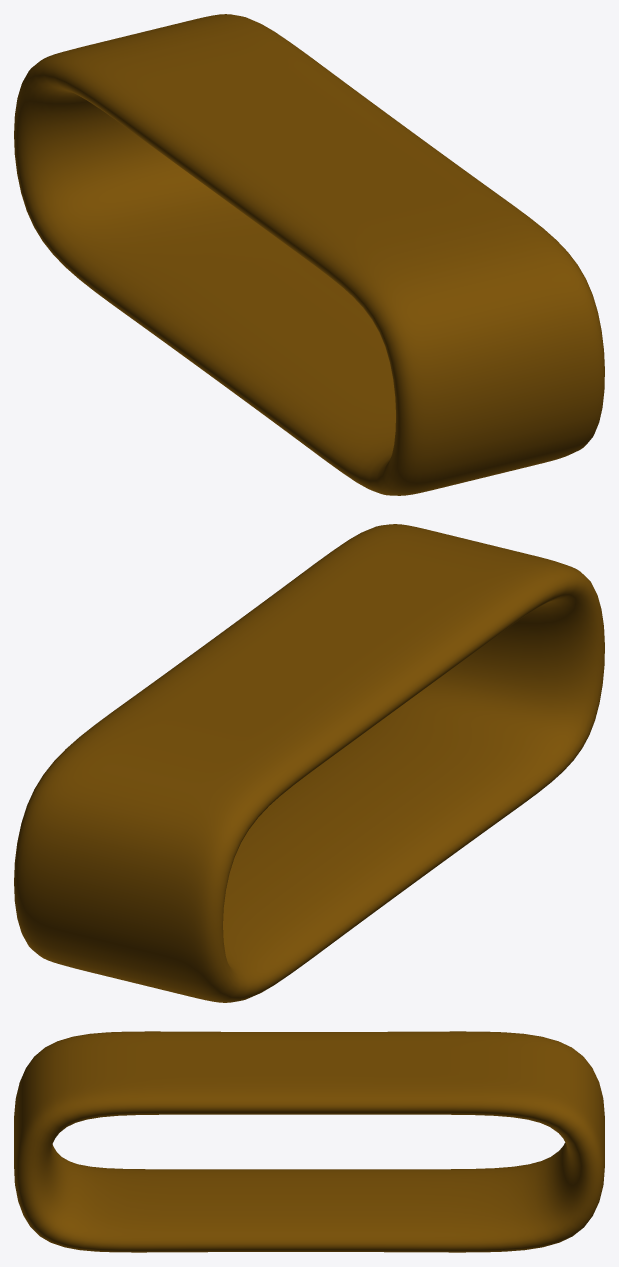
Rendered from Repisa.fbx.
3 renders of one model, top to bottom at view 1: azimuth 30°, elevation 25°; view 2: azimuth 150°, elevation 25°; view 3: azimuth 270°, elevation 25°, orthographic. The views are drawn at different scales.
Parts seen in each view (by area): view 1: REPISA; view 2: REPISA; view 3: REPISA.
Part boxes in pixels (box(x1,y1,x2,y2)): REPISA: box(14, 14, 604, 495); REPISA: box(14, 524, 604, 1002); REPISA: box(14, 1031, 604, 1252).
Bounding box in the file's own units: 194 × 200 × 658.
